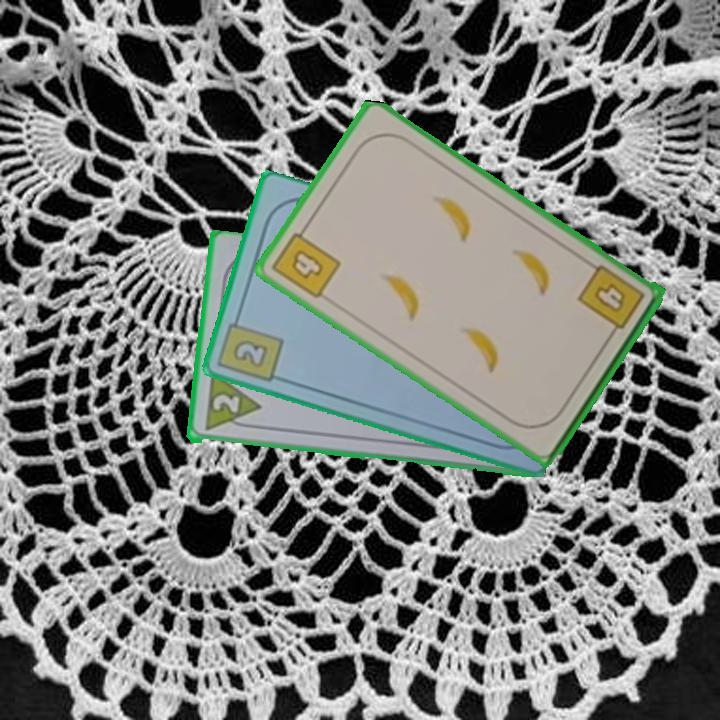2b: (215, 308, 287, 386)
2p: (208, 390, 242, 416)
4b: (268, 220, 344, 302), (573, 261, 648, 341)
